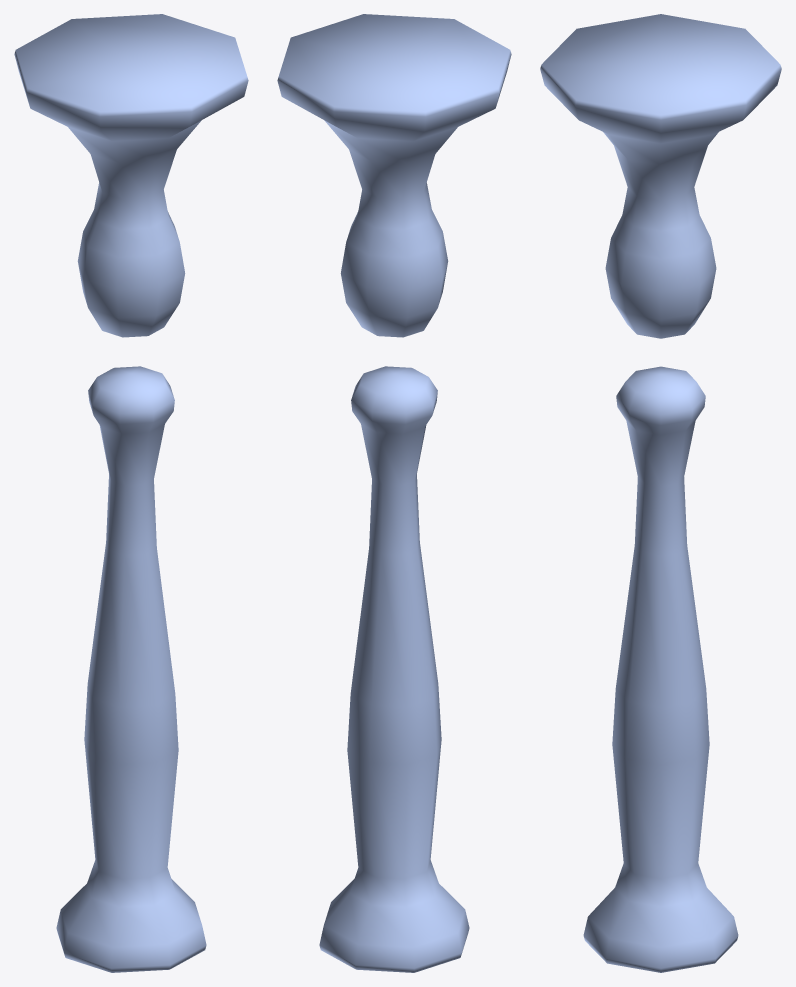
The model's file is column.glb.
3 views of the same model, side by side, from view 1: azimuth 30°, elevation 25°; view 2: azimuth 150°, elevation 25°; view 3: azimuth 270°, elevation 25° (orthographic).
Parts seen in each view (by area): view 1: column-col; view 2: column-col; view 3: column-col.
Boxes of the visible parts, x1,y1,x2,y2 form: column-col: (14,14,248,972); column-col: (277,14,511,972); column-col: (540,14,781,972).
Bounding box in the file's own units: 1 × 4 × 1.
